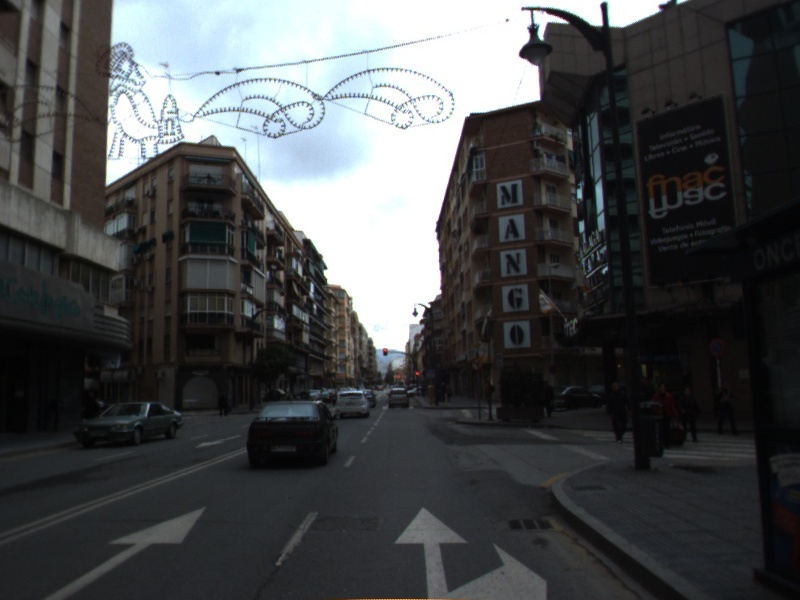STRAIGHT: (41, 504, 209, 600)
STRAIGHT_RIGHT: (392, 505, 549, 600)
